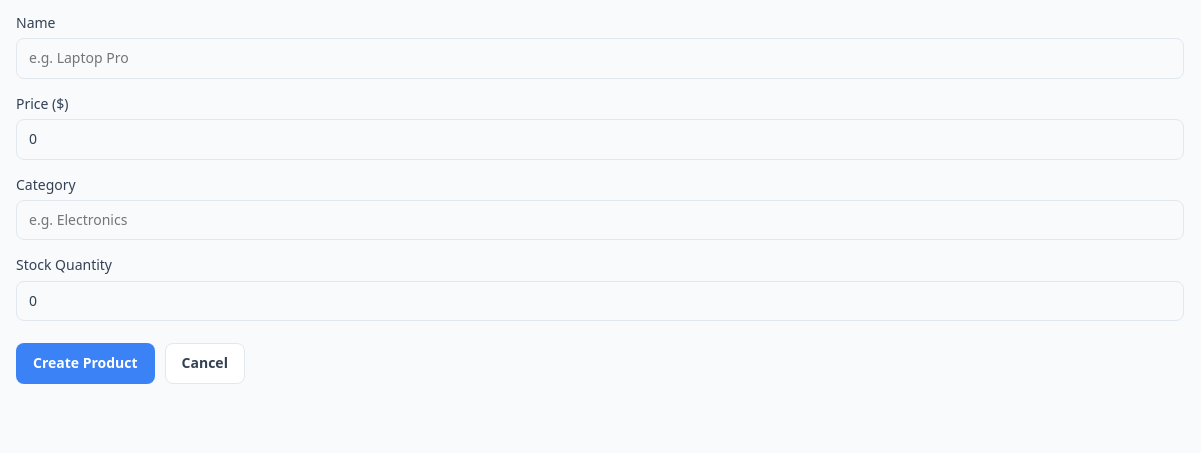
ProductForm › shows validation error when price is zero
This screenshot has width=1201, height=453.
Type "Widget" into the field with placeholder "e.g. Laptop Pro" at (600, 59), box top-left (16, 38), bottom-right (1184, 79)
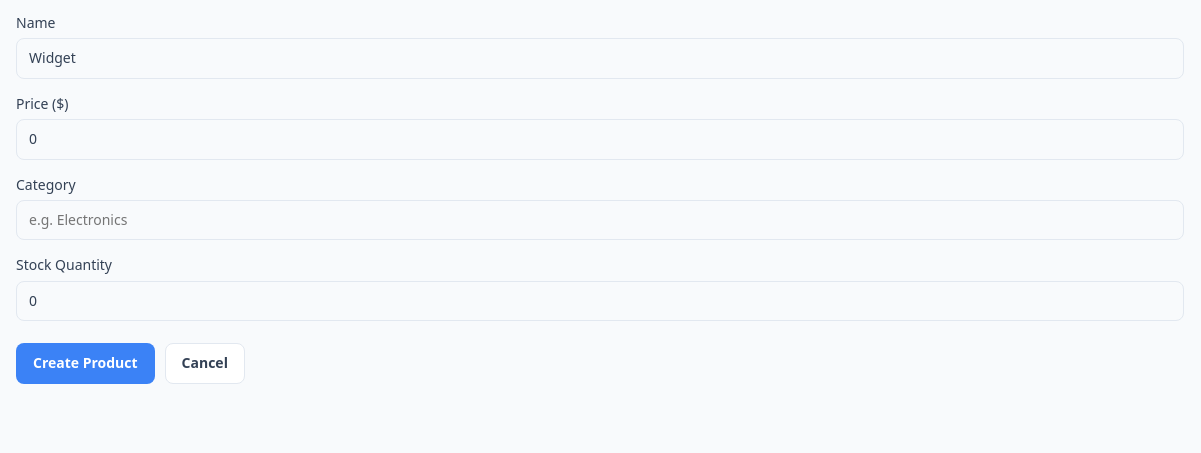
Click the button "Create Product" at (85, 363), box top-left (16, 343), bottom-right (155, 384)
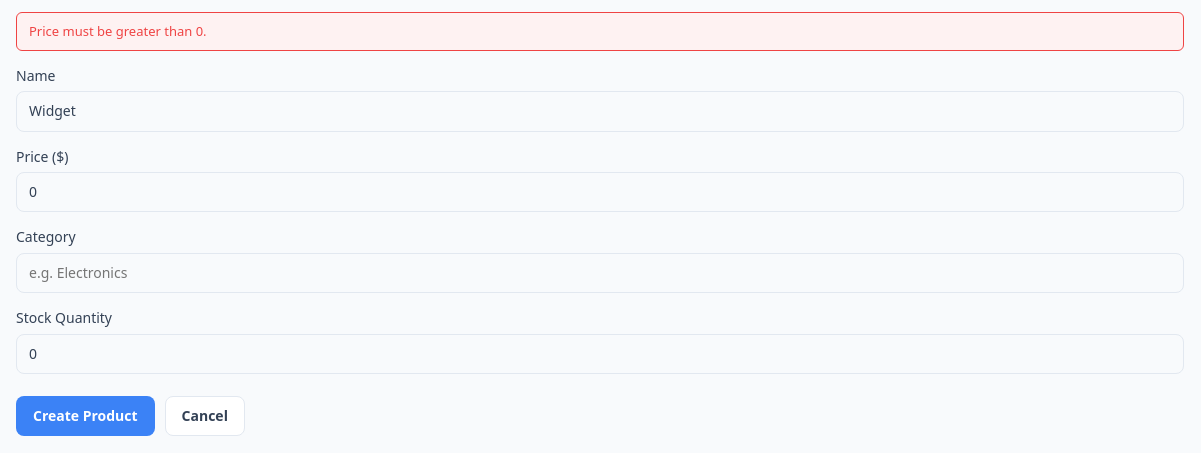
Expected: the message shows "Price must be greater", top-left (29, 22), bottom-right (207, 40)
